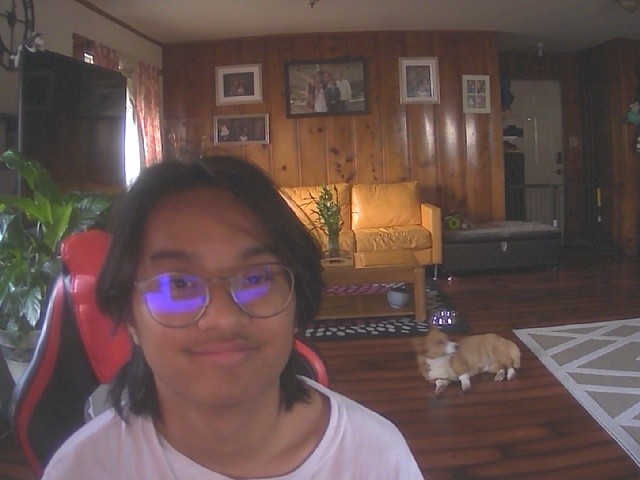happy: (119, 165, 311, 409)
